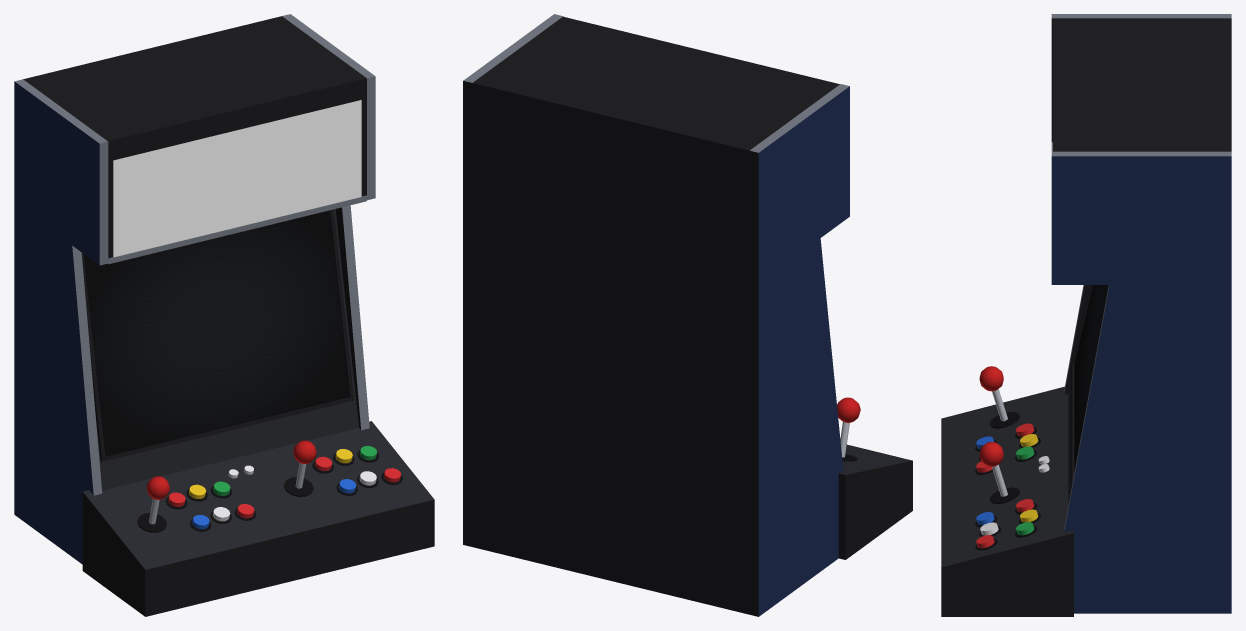
Rendered from arcade_cabinet.glb.
The picture shows the model from 3 angles, left to right: view 1: azimuth 30°, elevation 25°; view 2: azimuth 150°, elevation 25°; view 3: azimuth 270°, elevation 25°; orthographic projection. The views are drawn at different scales.
Visible parts, largest first — view 1: box; view 2: box; view 3: box.
Part boxes in pixels (x1,y1,x2,y2): box: (14,14,434,616); box: (463,14,912,616); box: (941,14,1231,616).
Size of the model in its own units: 0.6979 by 1 by 0.575.
3 materials, 2 textured.
